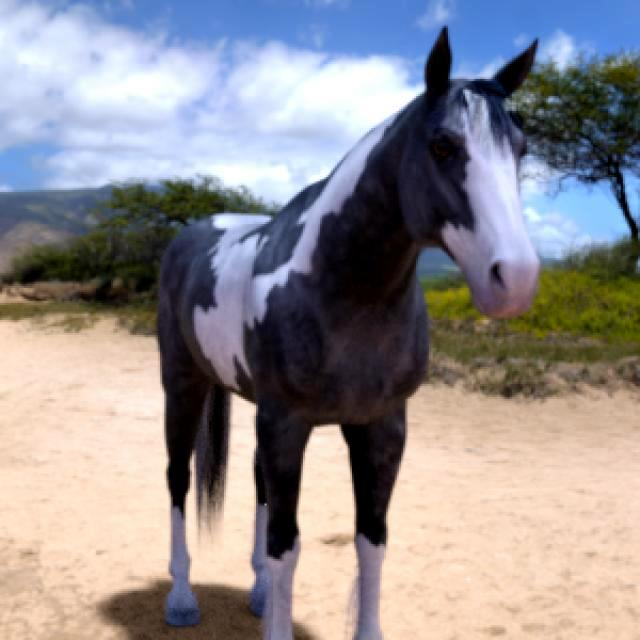horse: (158, 29, 540, 639)
